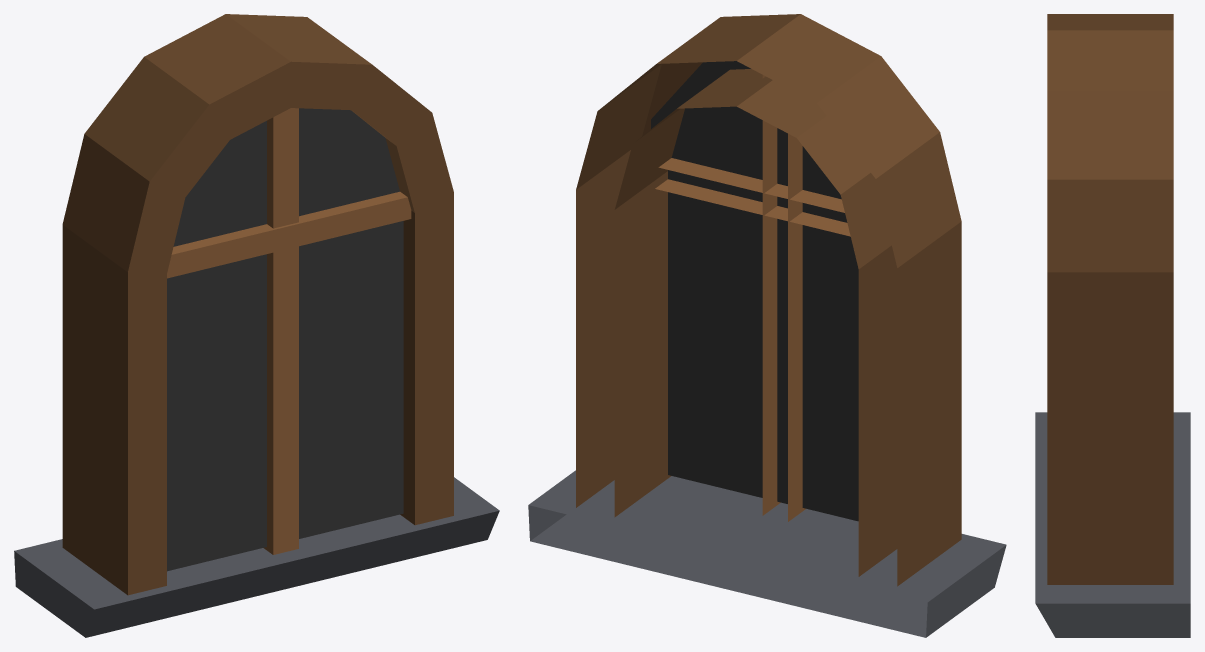
The model's file is Window_3.glb.
3 views of the same model, side by side, from view 1: azimuth 30°, elevation 25°; view 2: azimuth 150°, elevation 25°; view 3: azimuth 270°, elevation 25° (orthographic). The views are drawn at different scales.
Parts seen in each view (by area): view 1: Window_3; view 2: Window_3; view 3: Window_3.
Boxes of the visible parts, left/top/right/bottom form: Window_3: left=14, top=14, right=499, bottom=637; Window_3: left=528, top=14, right=1006, bottom=637; Window_3: left=1035, top=14, right=1190, bottom=637.
Bounding box in the file's own units: 0.447 × 0.5585 × 0.1532.
